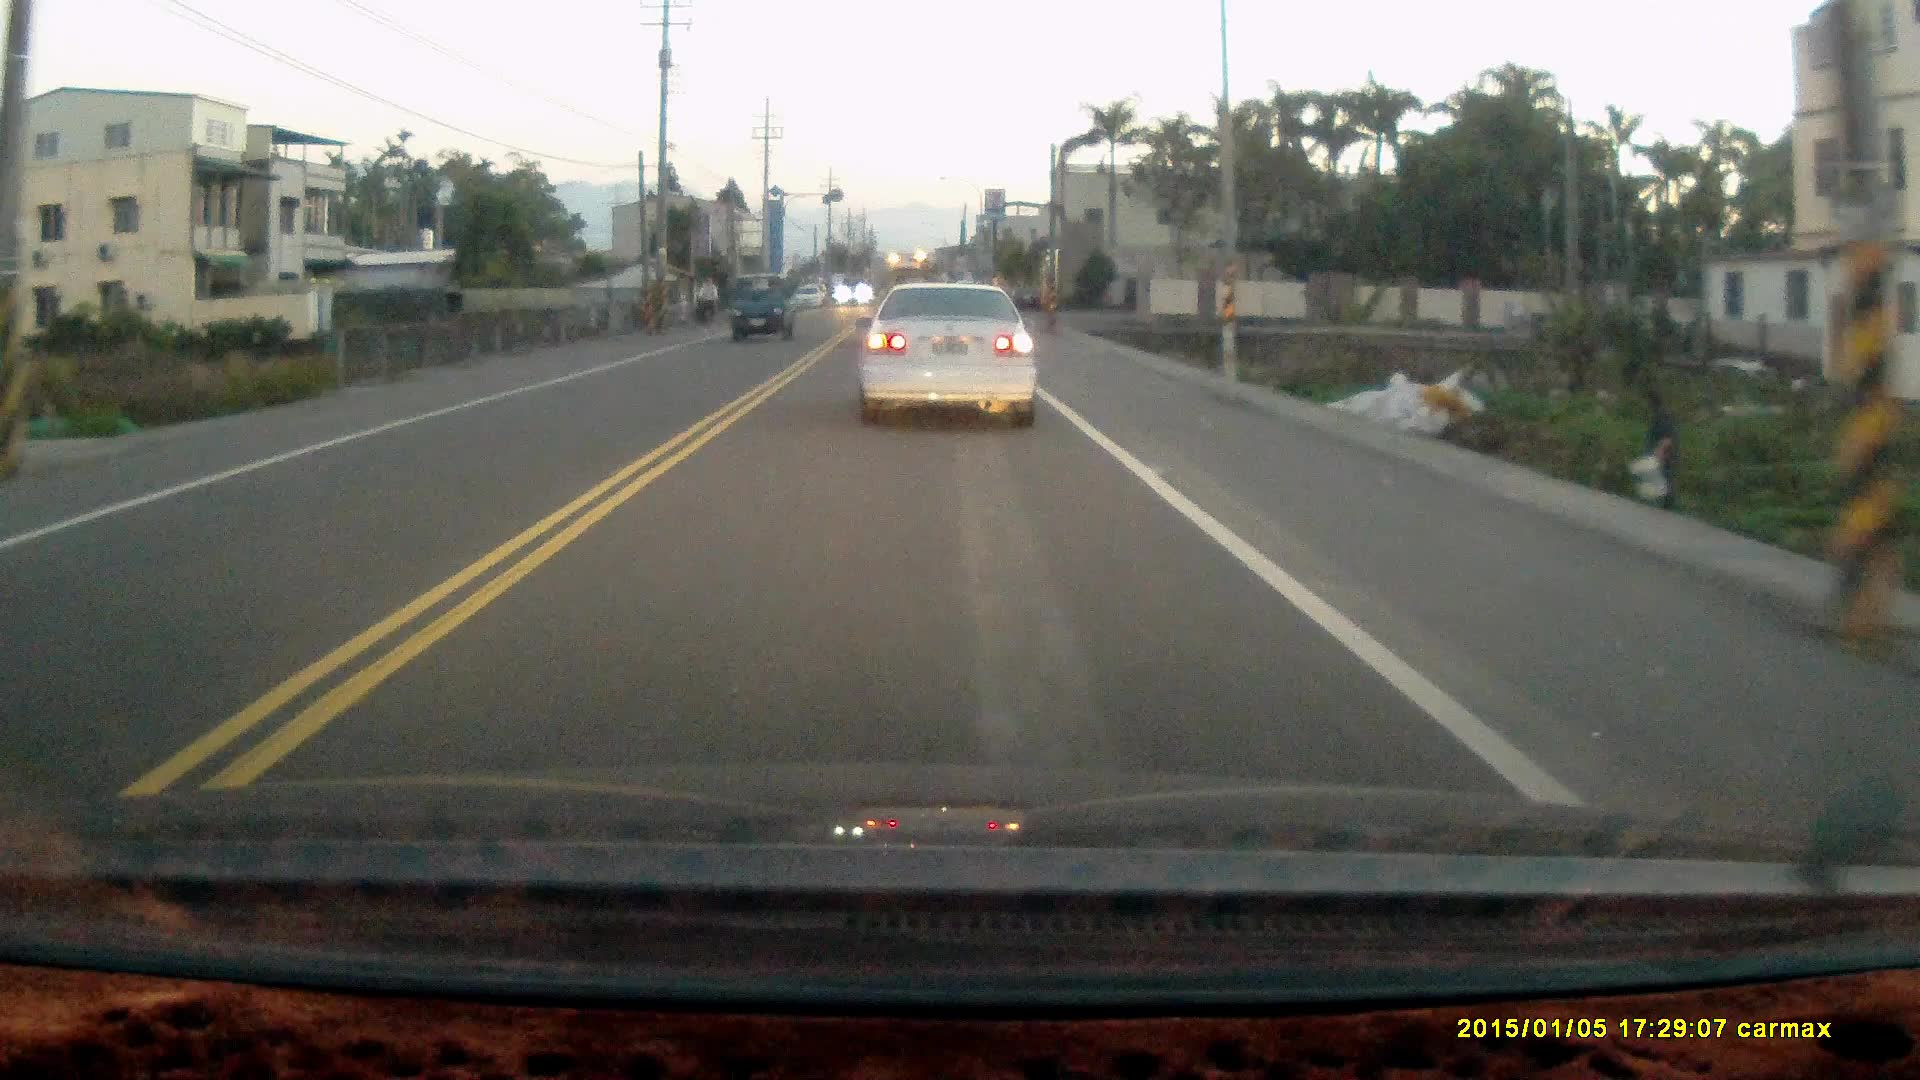pedestrian: (1634, 386, 1677, 518)
rider: (693, 273, 716, 331)
vehicle: (860, 290, 1045, 430), (728, 273, 799, 346), (794, 286, 824, 311)
